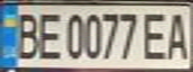0: (81, 9, 103, 60), (63, 9, 84, 60)
7: (118, 9, 142, 61), (100, 9, 121, 61)
A: (163, 8, 193, 61)
B: (6, 8, 42, 61)
E: (139, 8, 172, 61), (33, 8, 63, 61)
